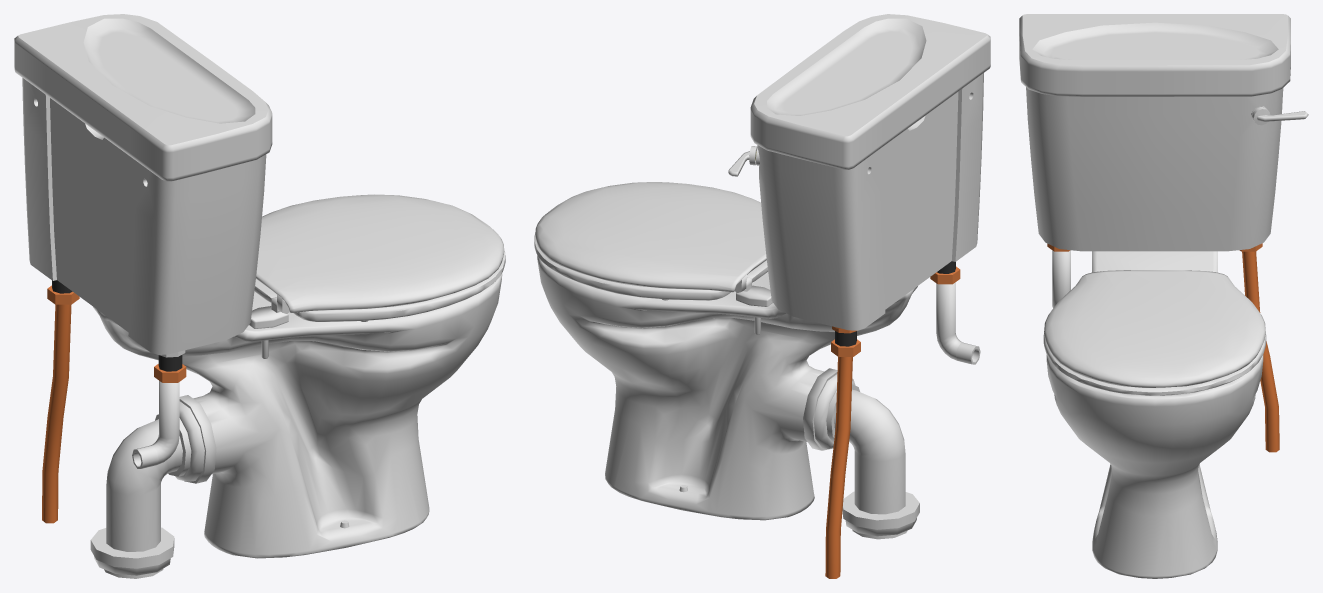
Rendered from toilat.fbx.
The picture shows the model from 3 angles, left to right: view 1: azimuth 30°, elevation 25°; view 2: azimuth 150°, elevation 25°; view 3: azimuth 270°, elevation 25°; orthographic projection. The views are drawn at different scales.
Visible parts, largest first — view 1: Cube.036, Cube.003, Cube.010, Cube.024, Cube.035, Circle.015, Cube.049, Cube.054, Cylinder.002, Circle.017, Cube.051; view 2: Cube.036, Cube.003, Cube.010, Cube.024, Cube.035, Circle.015, Cube.049, Cube.054, Cylinder.002, Circle.017, Cube.051; view 3: Cube.003, Cube.036, Cube.010, Cube.024, Circle.015, Cube.049, Cylinder.002, Circle.018.
Boxes of the visible parts, left/top/right/bottom form: Cube.036: left=93, top=273, right=502, bottom=558; Cube.003: left=22, top=78, right=266, bottom=354; Cube.010: left=14, top=14, right=272, bottom=181; Cube.024: left=256, top=194, right=504, bottom=313; Cube.035: left=106, top=395, right=216, bottom=551; Circle.015: left=42, top=304, right=71, bottom=523; Cube.049: left=254, top=250, right=505, bottom=321; Cube.054: left=90, top=527, right=174, bottom=578; Cylinder.002: left=132, top=381, right=179, bottom=468; Circle.017: left=47, top=280, right=186, bottom=382; Cube.051: left=249, top=297, right=288, bottom=328; Cube.036: left=537, top=255, right=917, bottom=520; Cube.003: left=757, top=73, right=983, bottom=330; Cube.010: left=750, top=14, right=990, bottom=169; Cube.024: left=535, top=182, right=766, bottom=292; Cube.035: left=803, top=368, right=905, bottom=514; Circle.015: left=825, top=357, right=852, bottom=578; Cube.049: left=534, top=234, right=767, bottom=300; Cube.054: left=842, top=491, right=919, bottom=539; Cylinder.002: left=936, top=282, right=980, bottom=364; Circle.017: left=831, top=261, right=960, bottom=356; Cube.051: left=736, top=277, right=772, bottom=306; Cube.003: left=1026, top=87, right=1283, bottom=251; Cube.036: left=1046, top=251, right=1263, bottom=578; Cube.010: left=1019, top=14, right=1290, bottom=96; Cube.024: left=1044, top=270, right=1265, bottom=387; Circle.015: left=1242, top=251, right=1279, bottom=452; Cube.049: left=1043, top=332, right=1266, bottom=395; Cylinder.002: left=1052, top=250, right=1070, bottom=307; Circle.018: left=1251, top=106, right=1308, bottom=125.
Size of the model in its own units: 67.93 by 77.86 by 48.01.
